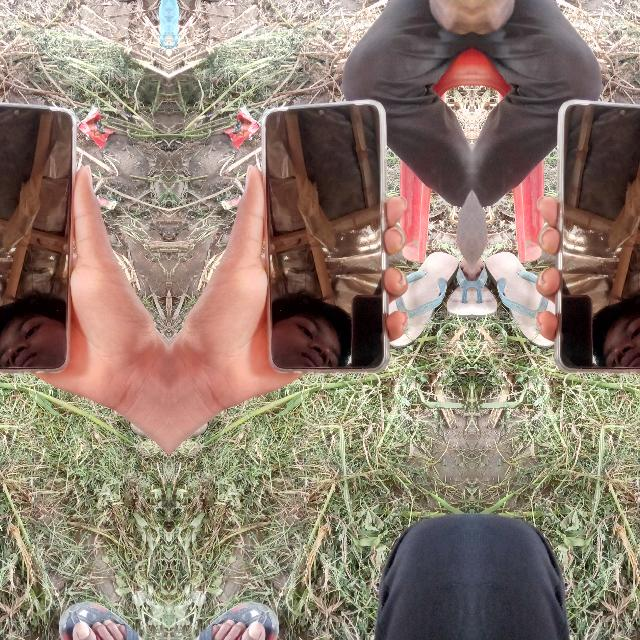phone_screen: (255, 97, 398, 373), (546, 97, 640, 373), (0, 97, 81, 373)
